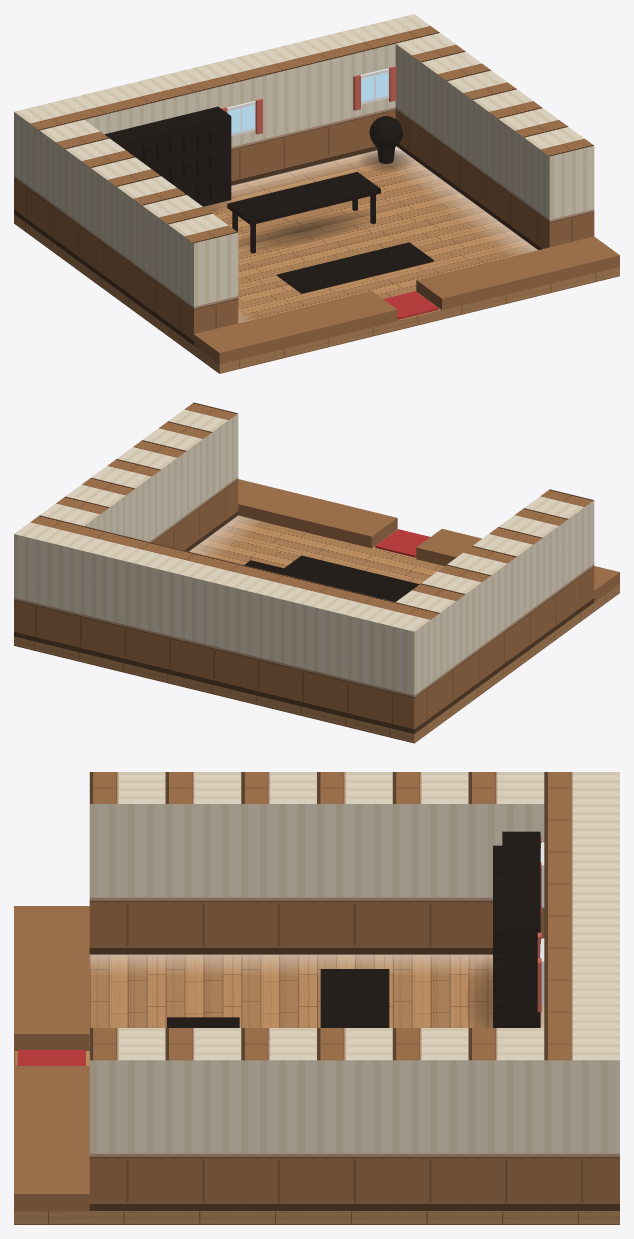
Rendered from casa_rival.glb.
3 views of the same model, one above another, from view 1: azimuth 30°, elevation 25°; view 2: azimuth 150°, elevation 25°; view 3: azimuth 270°, elevation 25° (orthographic). The views are drawn at different scales.
Parts seen in each view (by area): view 1: malha__semsombra (×40), malha__contorno (×4); view 2: malha__semsombra (×30), malha__contorno (×2); view 3: malha__semsombra (×37), malha__contorno (×3).
Boxes of the visible parts, x1,y1,x2,y2 form: malha__semsombra (×40): (14, 14, 619, 373); malha__contorno (×4): (104, 106, 433, 293); malha__semsombra (×30): (14, 402, 619, 743); malha__contorno (×2): (244, 555, 419, 601); malha__semsombra (×37): (14, 772, 619, 1224); malha__contorno (×3): (167, 831, 540, 1027).
Bounding box in the file's own units: 9 × 2.4 × 8.
25 materials, 6 textured.
